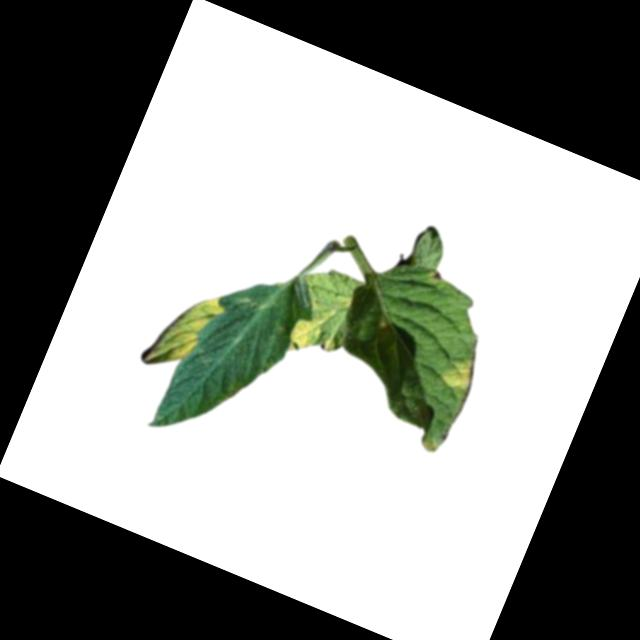Leaf_Mold: (140, 278, 224, 381), (285, 314, 342, 366), (438, 351, 482, 396)
